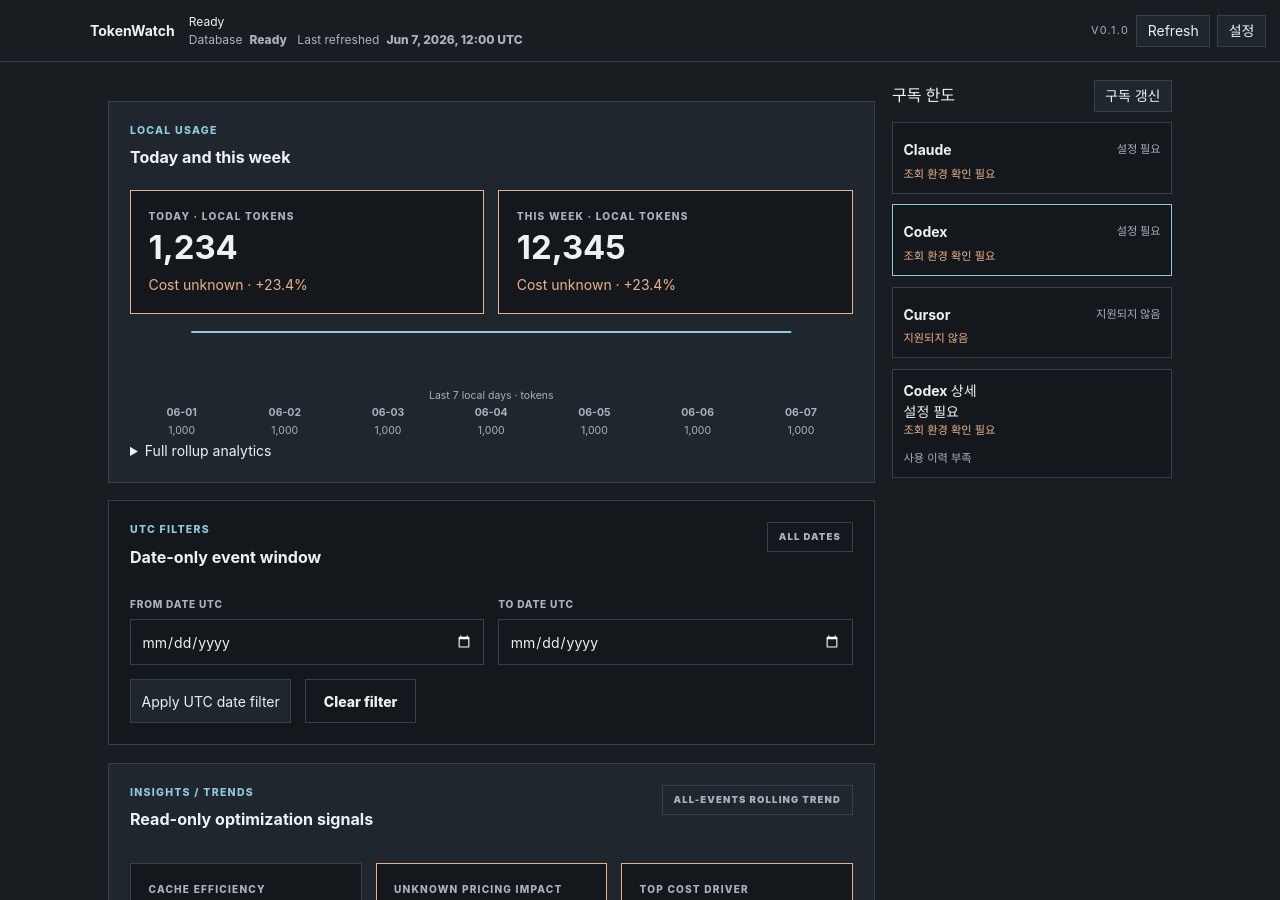
Scenario: desktop renderer shell › applies valid UTC date filters through the typed preload API
Expected: the date field labelled "To date UTC" is empty, [498,619,853,665]
Type "2026-05-01" into the date field labelled "From date UTC".
click(307, 642); type("2026-05-01")  # box [130,619,484,665]
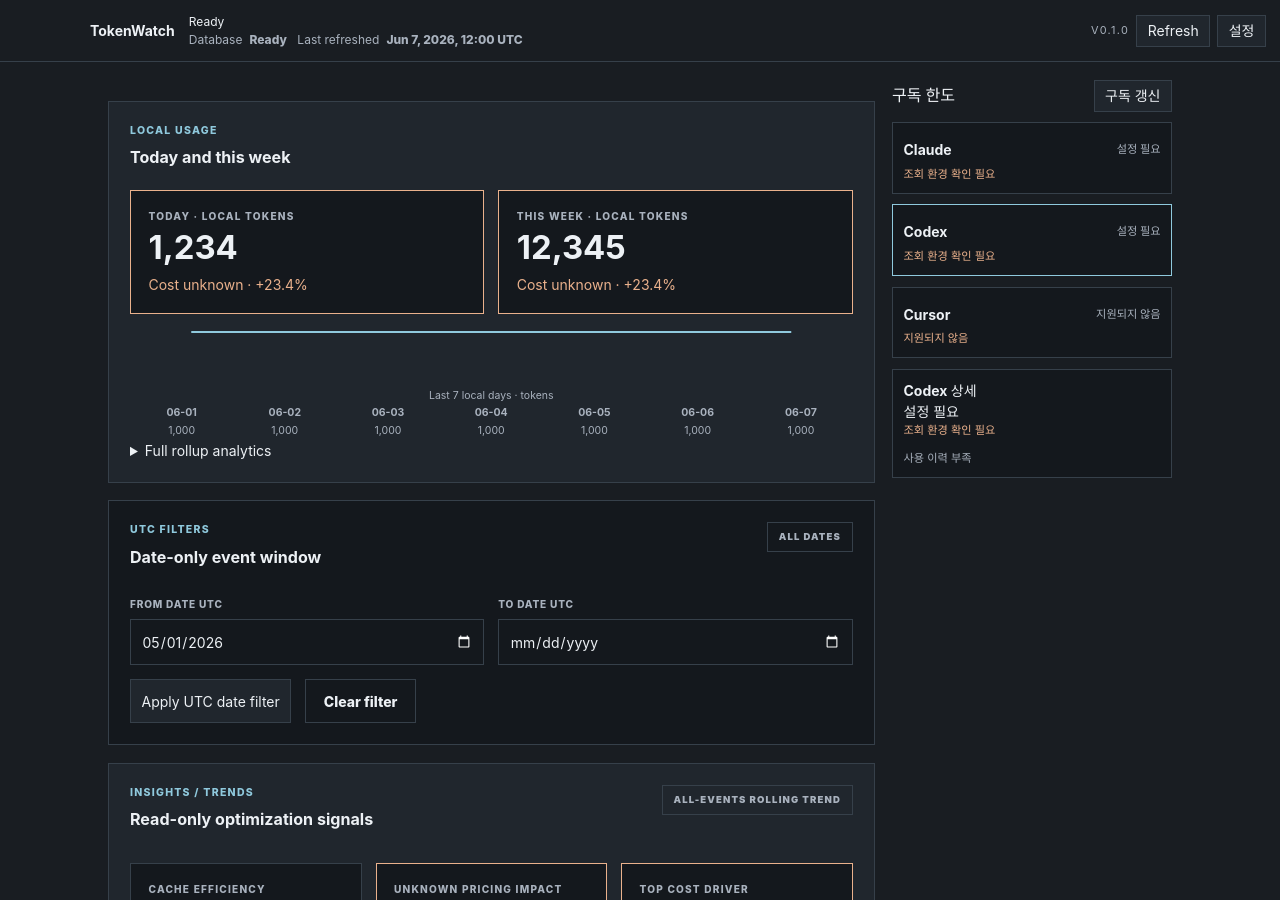
Type "2026-05-01" into the date field labelled "To date UTC".
click(675, 642); type("2026-05-01")  # box [498,619,853,665]
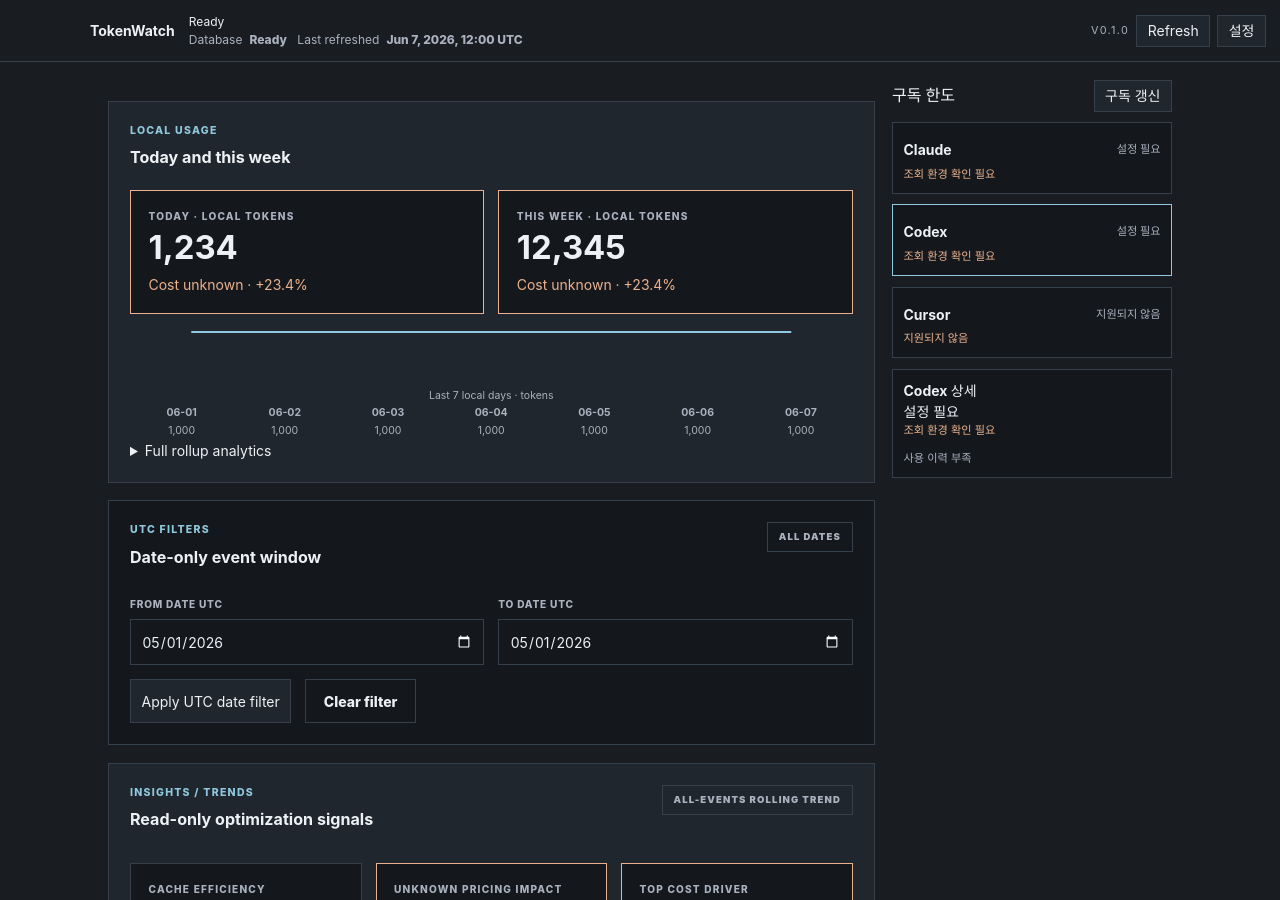
Click the button "Apply UTC date filter".
click(211, 701)  # box [130,679,291,723]
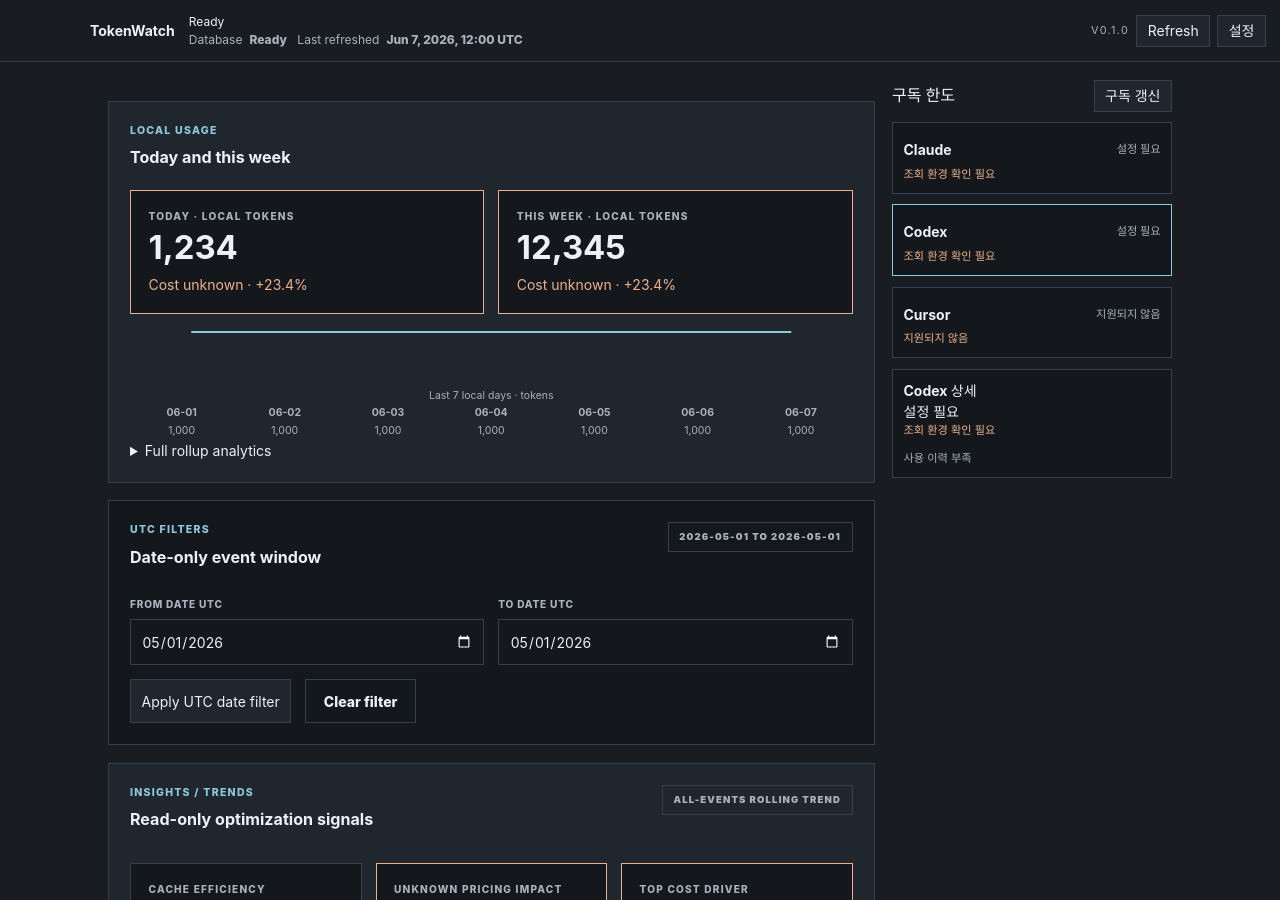
Expected: the element named "UTC date filters" shows "2026-05-01 to 2026-05-01", [679,531,841,542]
